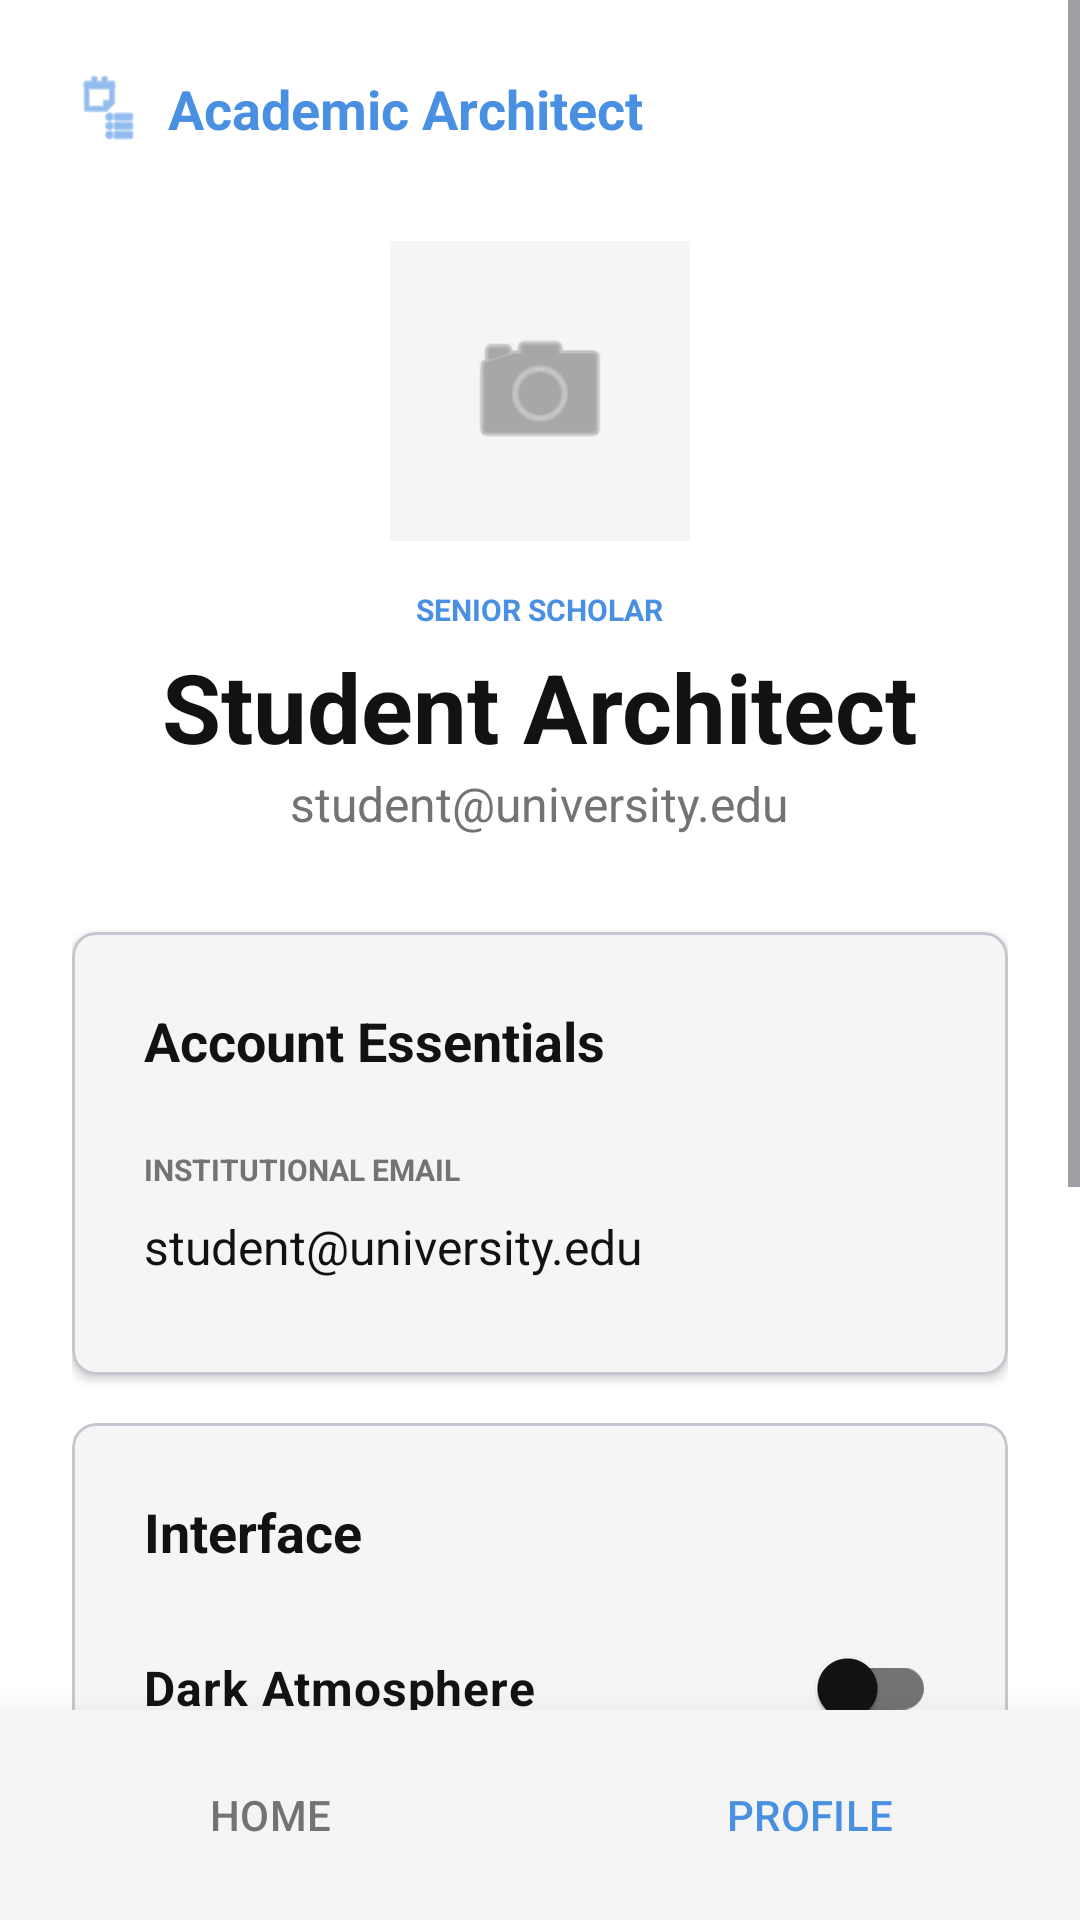

Icon click points for this 1080×1920 phone screenshot, format [x,y]:
agenda: [108,108]
camera: [540,388]
